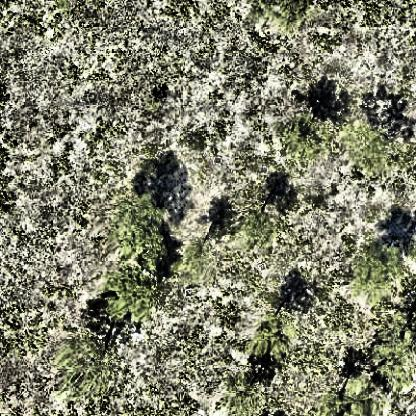tree-top: (109, 193, 176, 268), (343, 246, 405, 304), (275, 110, 332, 163), (100, 272, 158, 324), (343, 122, 394, 171), (376, 322, 416, 384), (244, 316, 296, 362), (253, 1, 313, 33), (235, 209, 278, 252)
